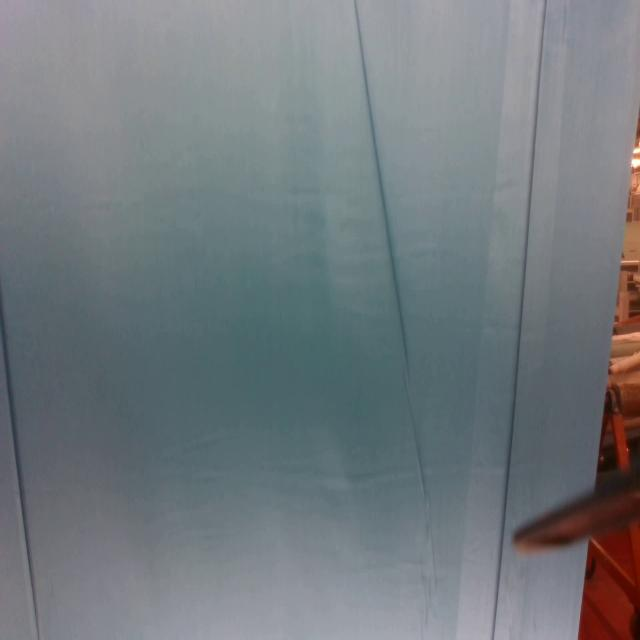crease: (354, 1, 438, 585), (502, 0, 550, 513), (0, 286, 41, 640), (490, 515, 506, 640)
